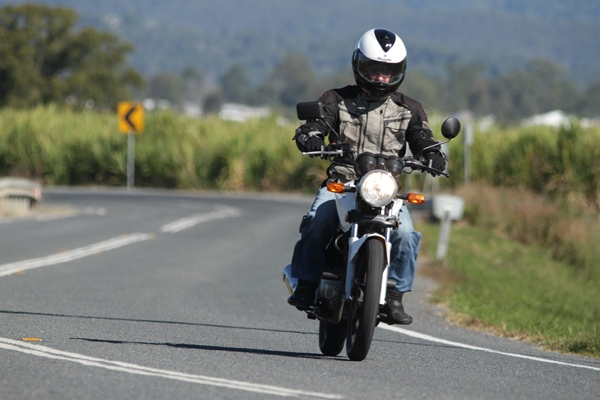bike: (280, 26, 455, 353)
